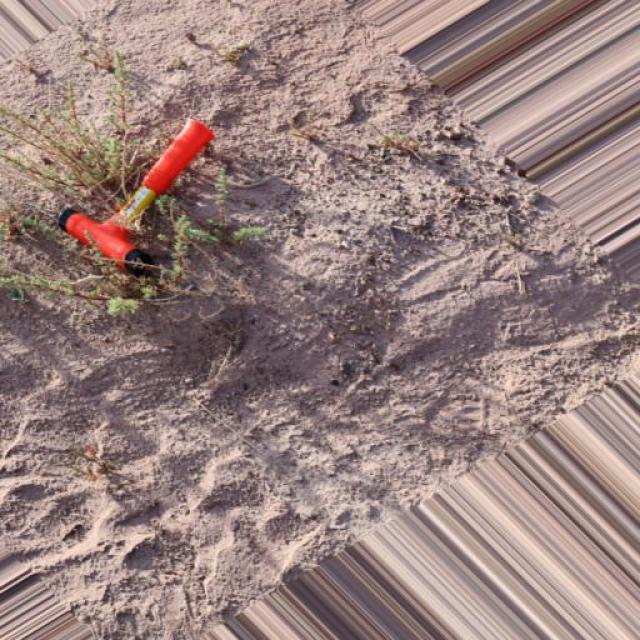mallet: (56, 116, 215, 278)
